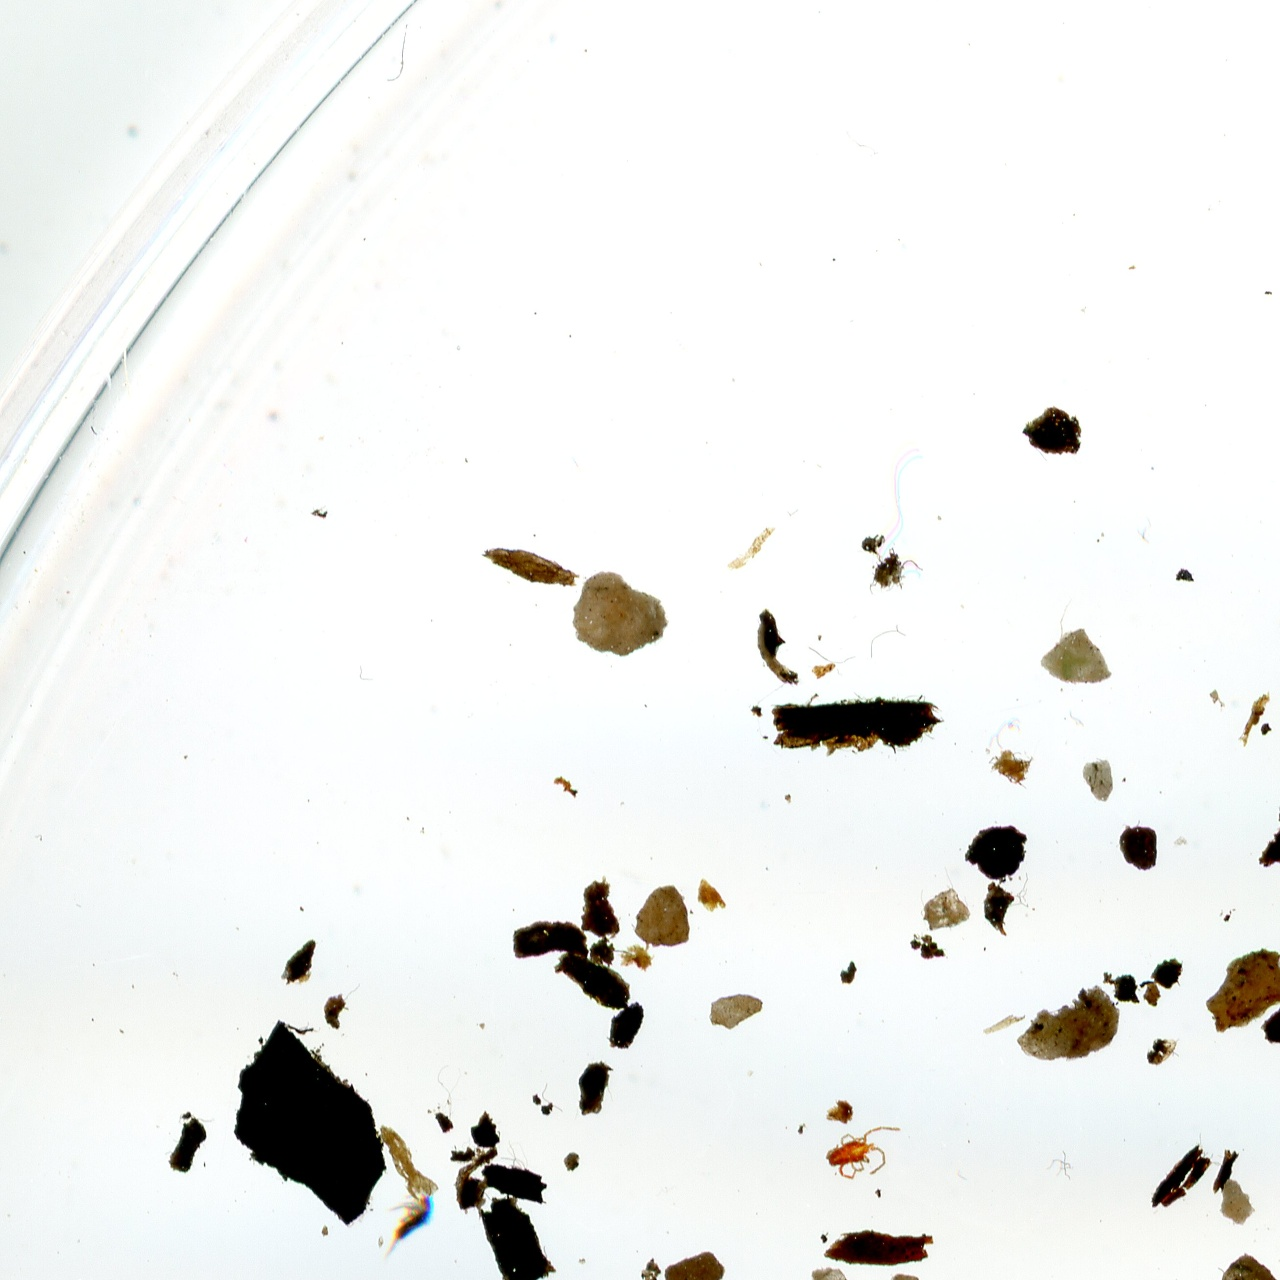arthropod: (824, 1122, 904, 1183), (380, 1191, 436, 1267)
